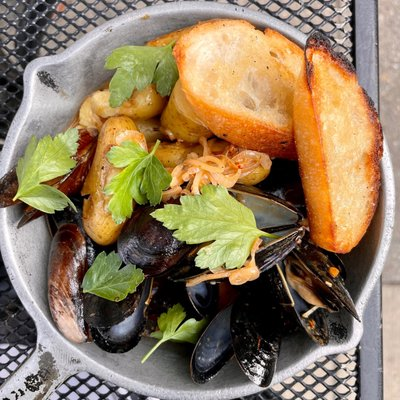soup: (152, 18, 385, 256)
